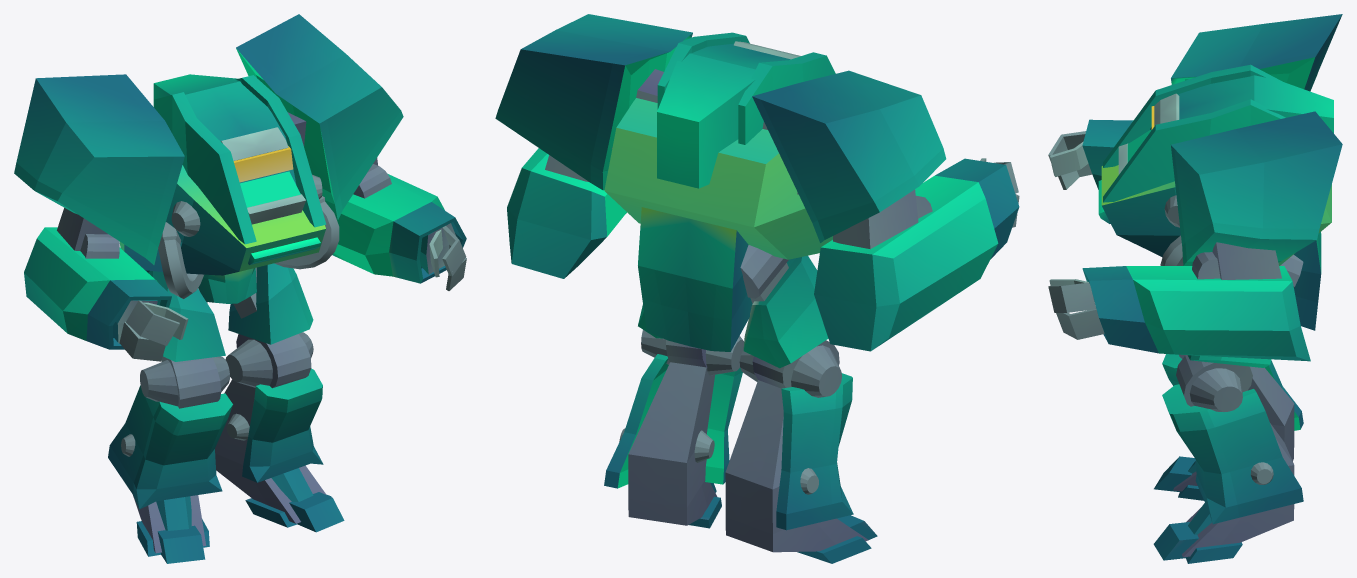
The model's file is MetalHead.glb.
3 renders of one model, left to right at view 1: azimuth 30°, elevation 25°; view 2: azimuth 150°, elevation 25°; view 3: azimuth 270°, elevation 25°, orthographic. The views are drawn at different scales.
Visible parts, largest first — view 1: MetalHead_Mesh; view 2: MetalHead_Mesh; view 3: MetalHead_Mesh.
Part boxes in pixels (left/top/right/bottom): MetalHead_Mesh: left=14, top=14, right=466, bottom=563; MetalHead_Mesh: left=495, top=14, right=1019, bottom=563; MetalHead_Mesh: left=1048, top=14, right=1342, bottom=563.
Bounding box in the file's own units: 20.72 × 22.15 × 13.51.
Materials: 1 (1 with a texture image).
